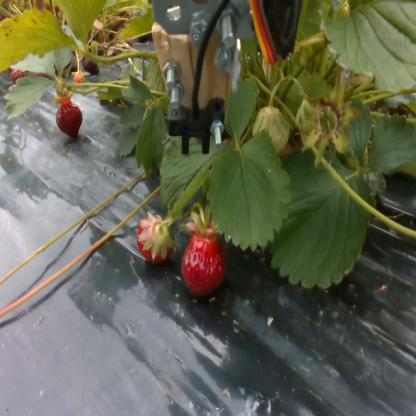ripe: (183, 232, 222, 294), (136, 218, 171, 258), (58, 100, 79, 135)
unripe: (254, 109, 292, 153)
